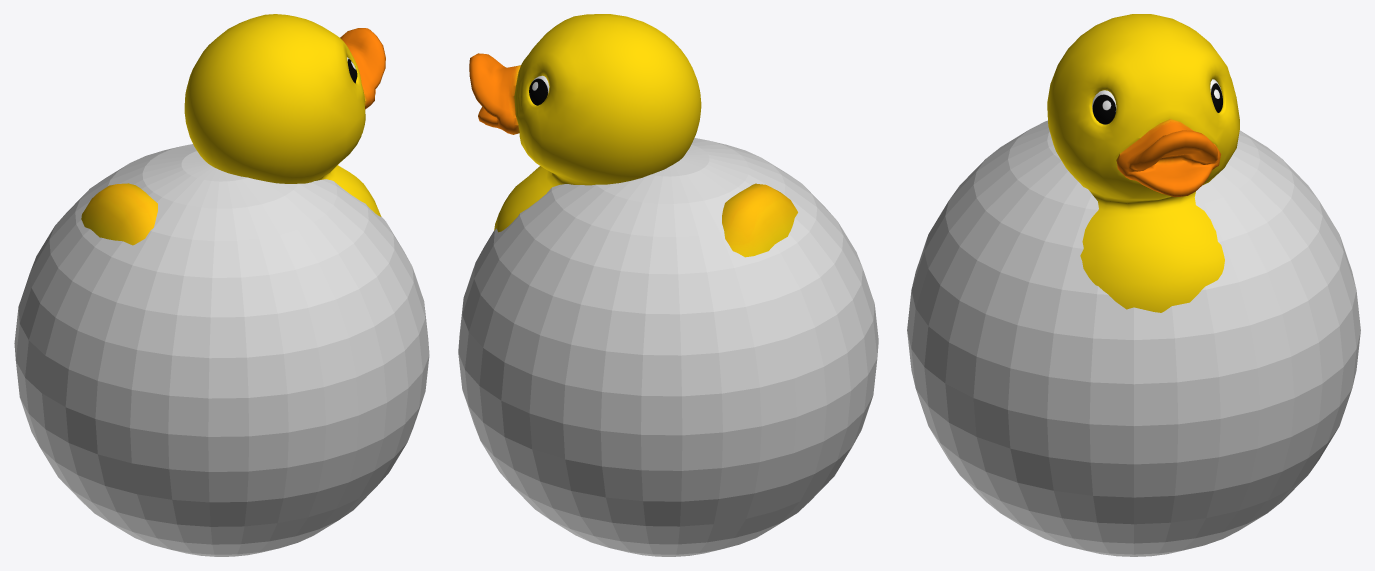
File: fusion.glb
3 views of the same model, side by side, from view 1: azimuth 30°, elevation 25°; view 2: azimuth 150°, elevation 25°; view 3: azimuth 270°, elevation 25° (orthographic). The views are drawn at different scales.
Parts seen in each view (by area): view 1: Sphere, LOD3spShape; view 2: Sphere, LOD3spShape; view 3: Sphere, LOD3spShape.
Boxes of the visible parts, x1,y1,x2,y2 form: Sphere: (14, 144, 429, 556); LOD3spShape: (81, 14, 385, 245); Sphere: (458, 138, 878, 556); LOD3spShape: (469, 14, 797, 257); Sphere: (907, 120, 1360, 556); LOD3spShape: (1047, 14, 1239, 312).
Bounding box in the file's own units: 2 × 2.64 × 2.
Materials: 1 (1 with a texture image).
